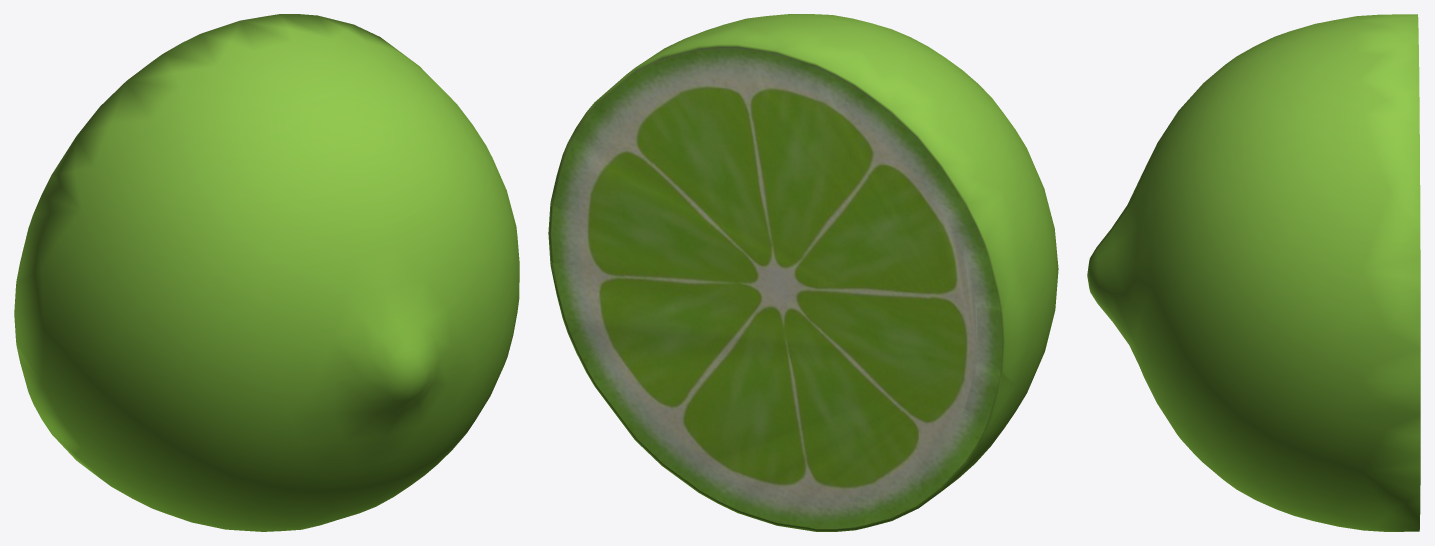
The model's file is Lime.fbx.
3 renders of one model, left to right at view 1: azimuth 30°, elevation 25°; view 2: azimuth 150°, elevation 25°; view 3: azimuth 270°, elevation 25°, orthographic.
Visible parts, largest first — view 1: Lime; view 2: Lime; view 3: Lime.
Boxes of the visible parts, x1,y1,x2,y2 form: Lime: (14, 14, 519, 531); Lime: (548, 14, 1058, 531); Lime: (1087, 14, 1420, 531).
Bounding box in the file's own units: 8.91 × 8.89 × 5.72.
